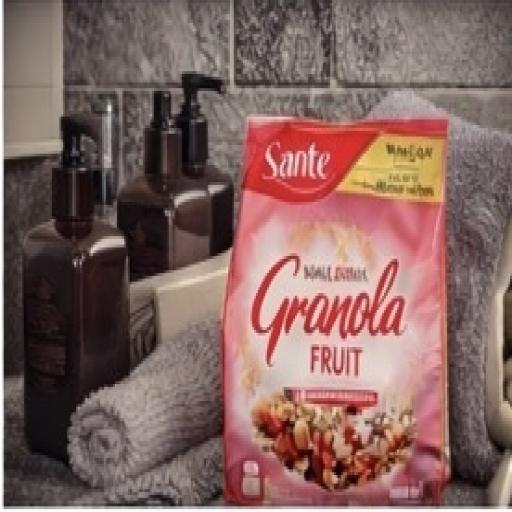granola: (210, 72, 479, 501)
